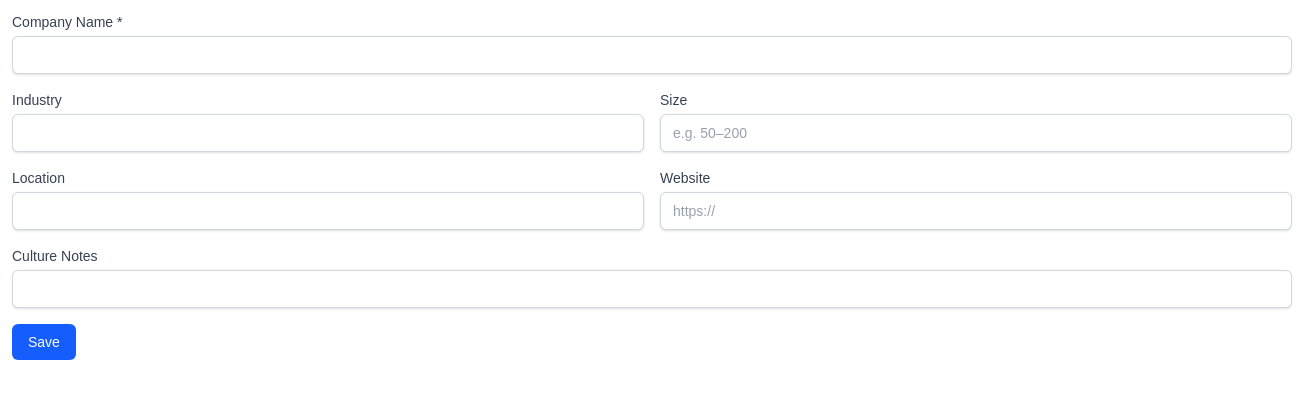
Test: CompanyForm › shows a validation error when name is empty and form is submitted
Click the button "Save".
click(44, 342)  # box [12,324,76,360]
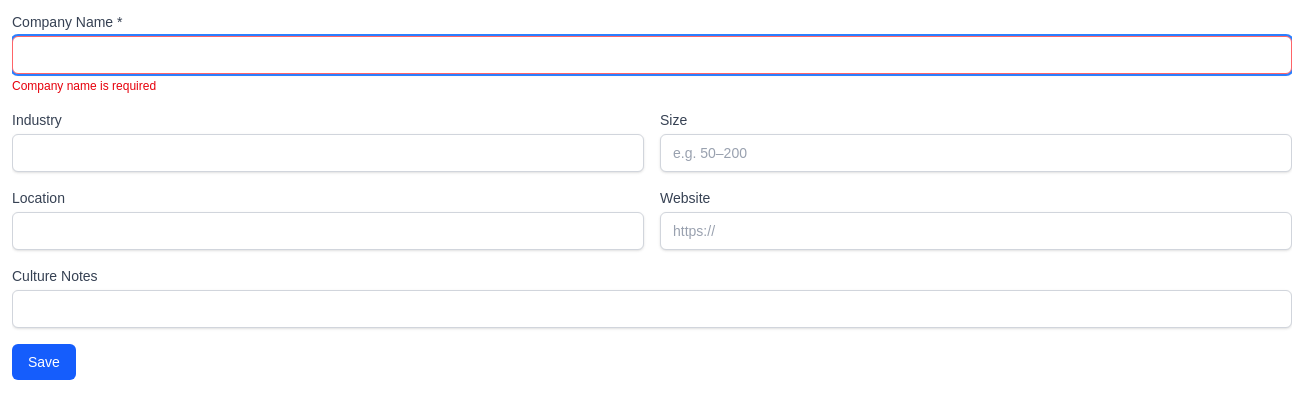
Expected: the text "Company name is required" is shown, [12,79,156,93]
